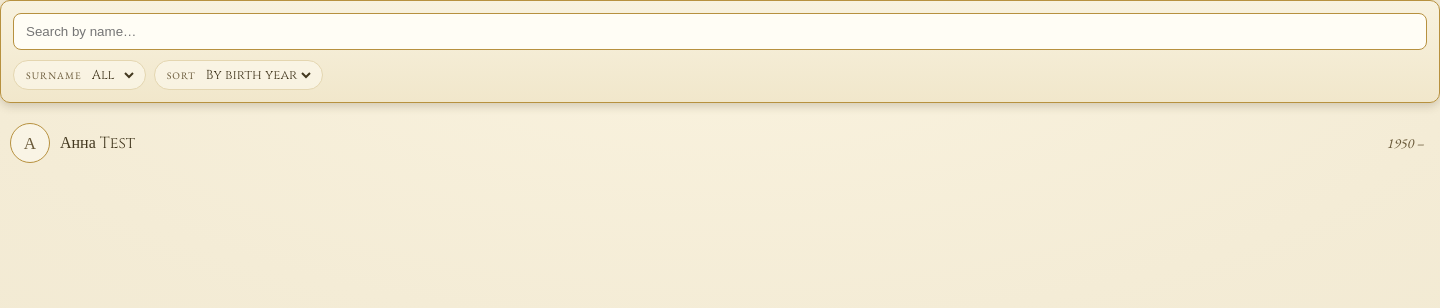
Test: MembersIndex › shows the empty state when nothing matches
The width and height of the screenshot is (1440, 308).
Type "zzz" into the search field with test id "members-search" at (720, 32), box [13,13,1427,50]
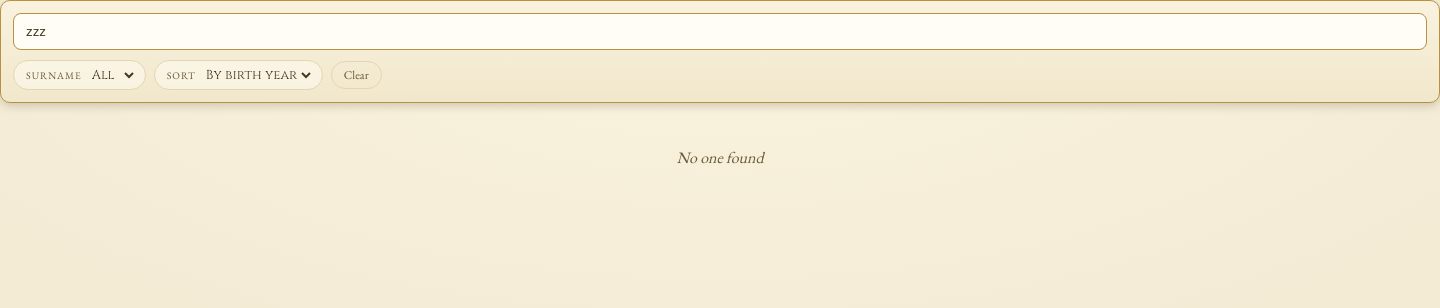
Expected: the text "No one found" is shown, [676,147,764,168]
